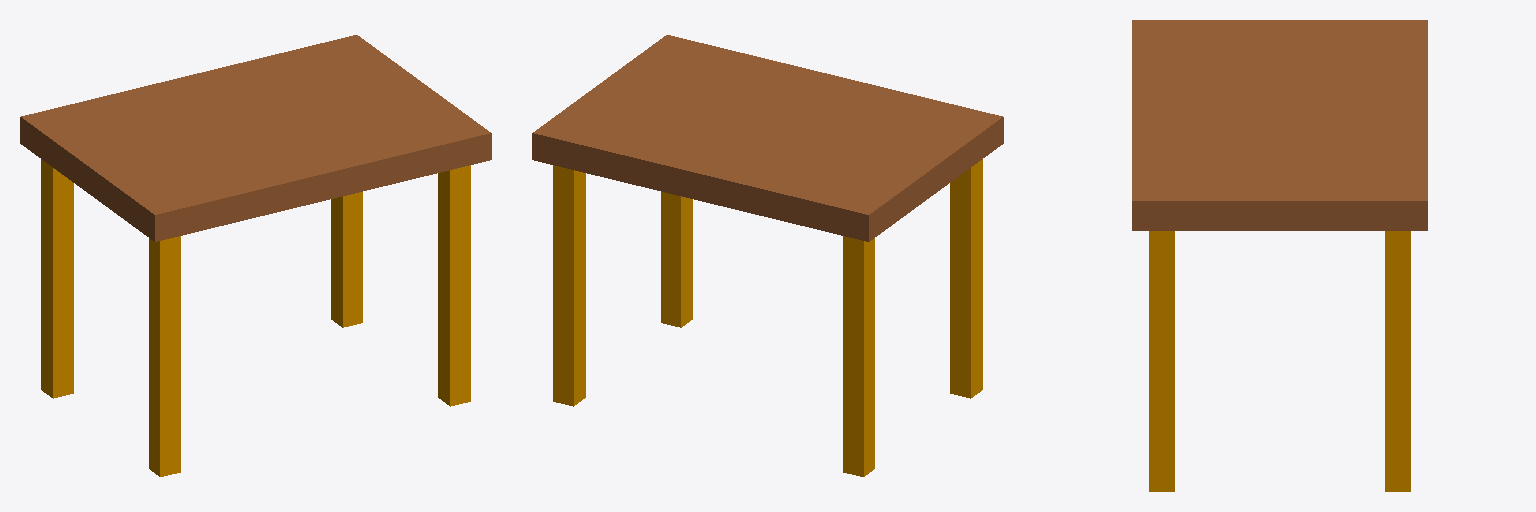
URDF robot description (g1_manipulation_table):
<?xml version="1.0"?>
<robot name="g1_manipulation_table">
  <link name="table">
    <inertial><mass value="100"/><inertia ixx="10" iyy="10" izz="10" ixy="0" ixz="0" iyz="0"/></inertial>
    <visual><geometry><box size="0.65 0.45 0.05"/></geometry><material name="wood"><color rgba="0.65 0.42 0.25 1"/></material></visual>
    <collision><geometry><box size="0.65 0.45 0.05"/></geometry></collision>
    <visual><origin xyz="-0.28 -0.18 -0.25"/><geometry><box size="0.04 0.04 0.45"/></geometry></visual>
    <collision><origin xyz="-0.28 -0.18 -0.25"/><geometry><box size="0.04 0.04 0.45"/></geometry></collision>
    <visual><origin xyz="0.28 -0.18 -0.25"/><geometry><box size="0.04 0.04 0.45"/></geometry></visual>
    <collision><origin xyz="0.28 -0.18 -0.25"/><geometry><box size="0.04 0.04 0.45"/></geometry></collision>
    <visual><origin xyz="-0.28 0.18 -0.25"/><geometry><box size="0.04 0.04 0.45"/></geometry></visual>
    <collision><origin xyz="-0.28 0.18 -0.25"/><geometry><box size="0.04 0.04 0.45"/></geometry></collision>
    <visual><origin xyz="0.28 0.18 -0.25"/><geometry><box size="0.04 0.04 0.45"/></geometry></visual>
    <collision><origin xyz="0.28 0.18 -0.25"/><geometry><box size="0.04 0.04 0.45"/></geometry></collision>
  </link>
</robot>

--- Facts derived from the render (not from the file) ---
The picture shows the robot from 3 angles, left to right: view 1: azimuth 30°, elevation 25°; view 2: azimuth 150°, elevation 25°; view 3: azimuth 270°, elevation 25°; orthographic projection.
Robot: g1_manipulation_table — 1 links, 0 joints (none); root link table; default pose: every joint at zero.
Links seen in each view (by area): view 1: table; view 2: table; view 3: table.
Link boxes in pixels (<box>): table: <box>20,35,491,476</box>; table: <box>532,35,1003,476</box>; table: <box>1132,20,1427,491</box>.
Bounding box of the posed robot: 0.65 × 0.45 × 0.5 m (x, y, z).
Geometry: primitives only (box / cylinder / sphere), no mesh files.
